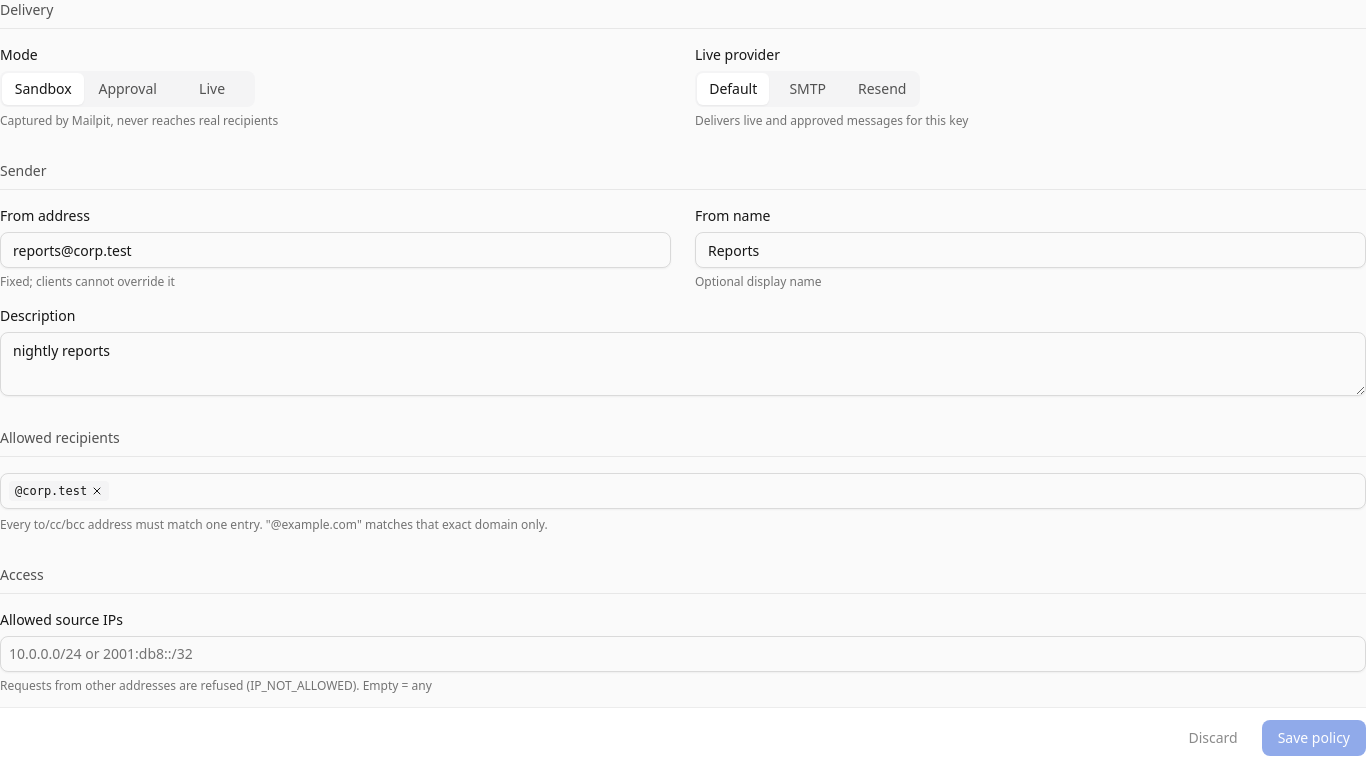
it: PolicyEditor › shows a clear warning when promoting to live and requires confirmation
Later steps or results of the test are not shown.
Expected: the text "Promoting to live" is not shown
Click the radio button labelled "Live": (212, 89) [171,73,253,105]
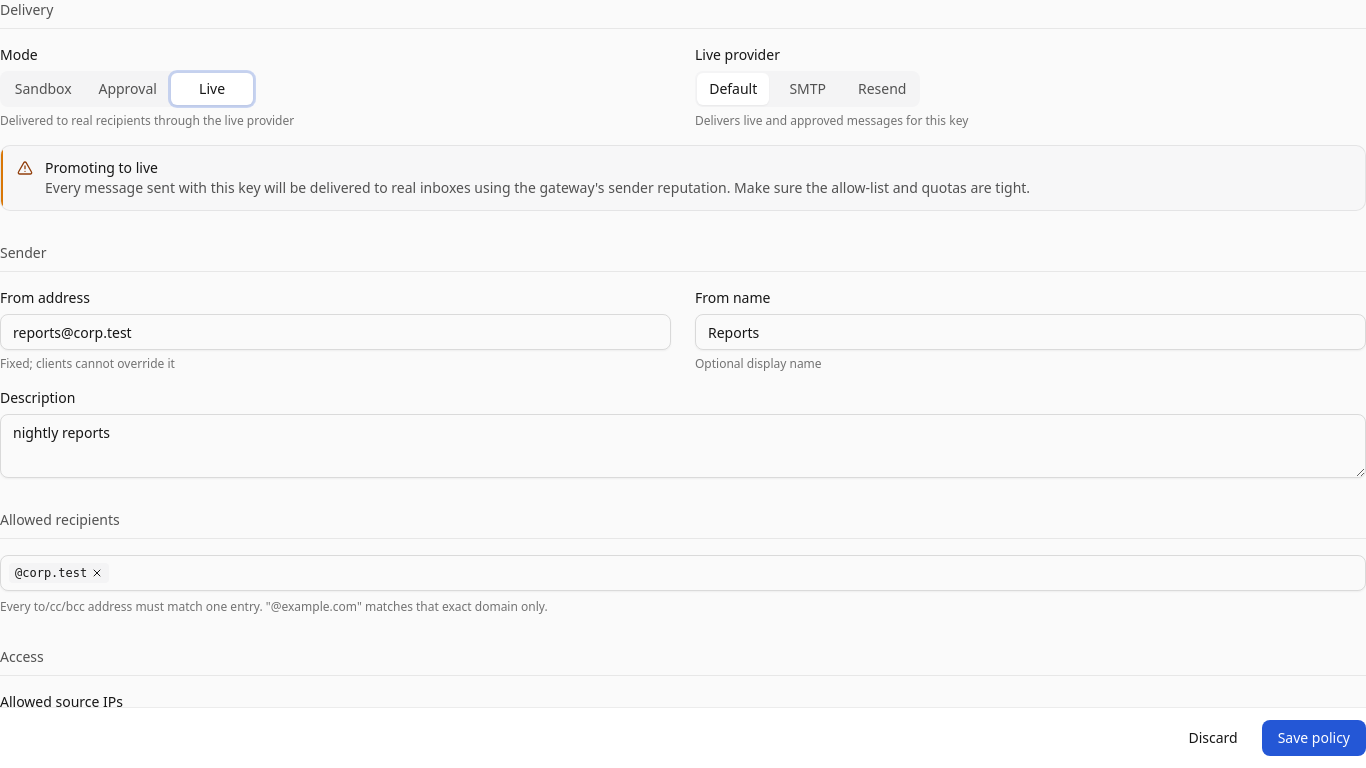
Expected: the text "Promoting to live" is shown, [45,158,158,177]
Click the button "Save policy": (1314, 738) [1262,720,1365,756]
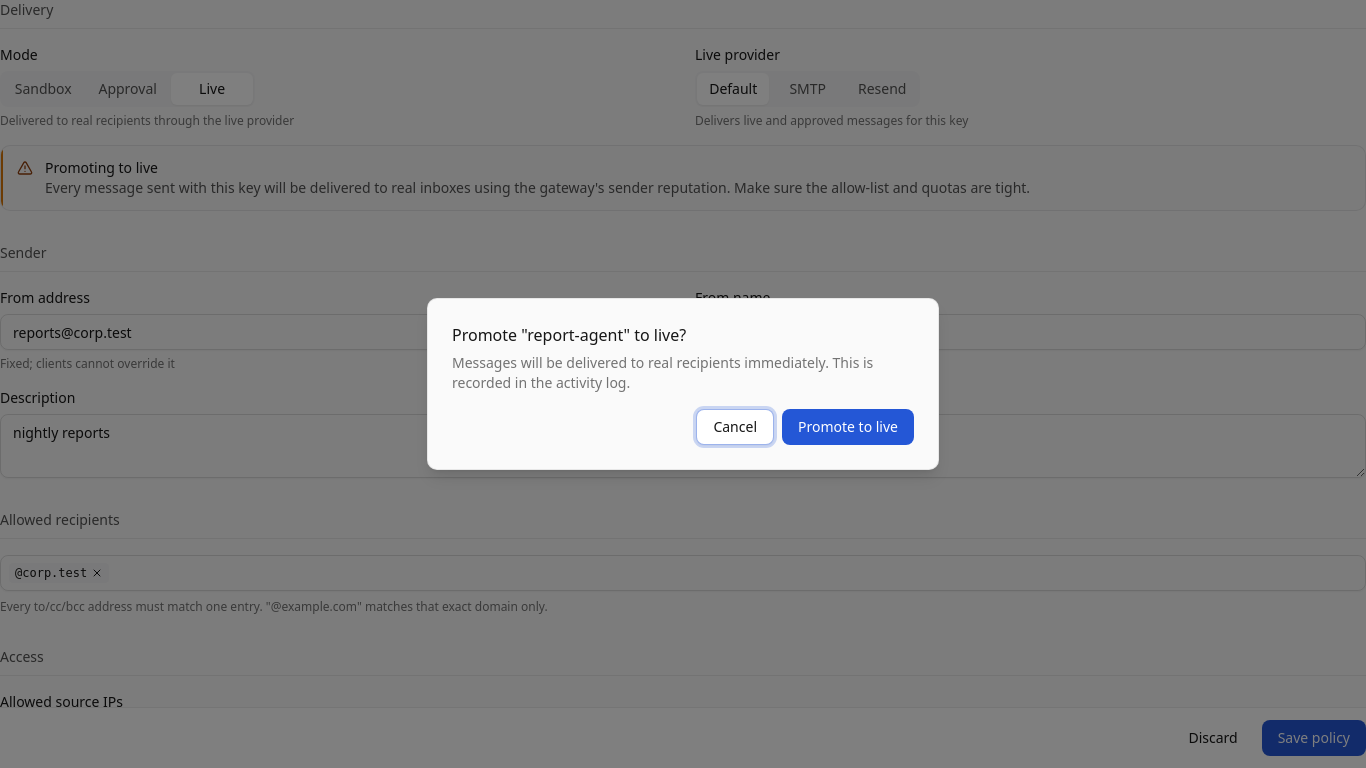
Expected: the heading "Promote \"report-agent\" to live?" is shown, [452,323,686,347]
